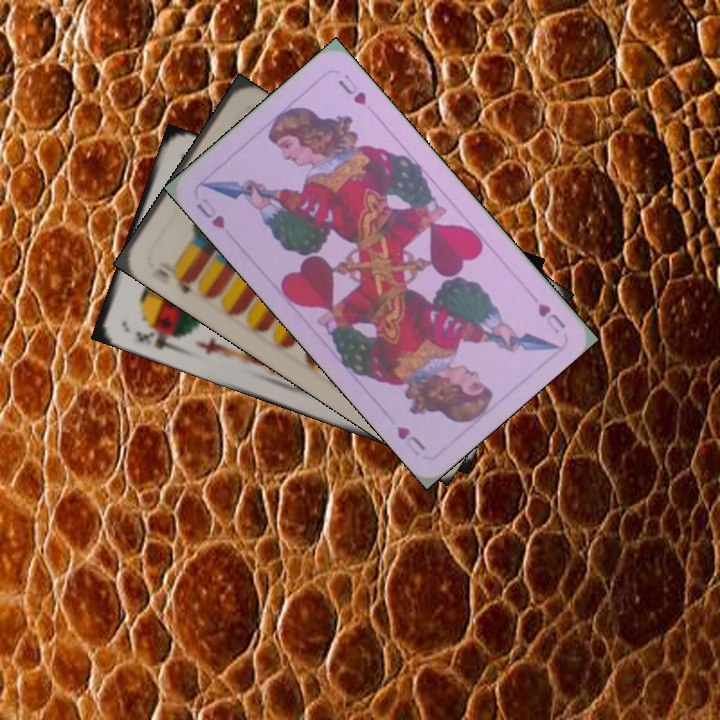E10: (154, 257, 198, 297)
HU: (191, 193, 228, 232), (533, 299, 568, 337)
SK: (132, 321, 181, 352)
